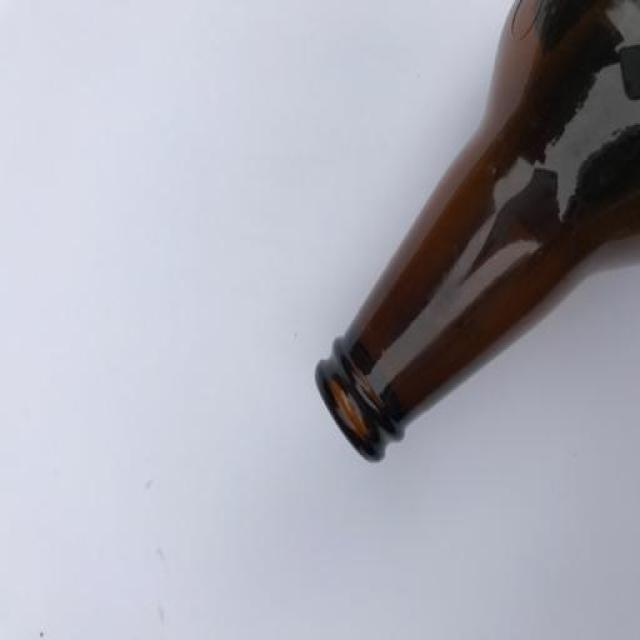glass: (315, 0, 640, 460)
